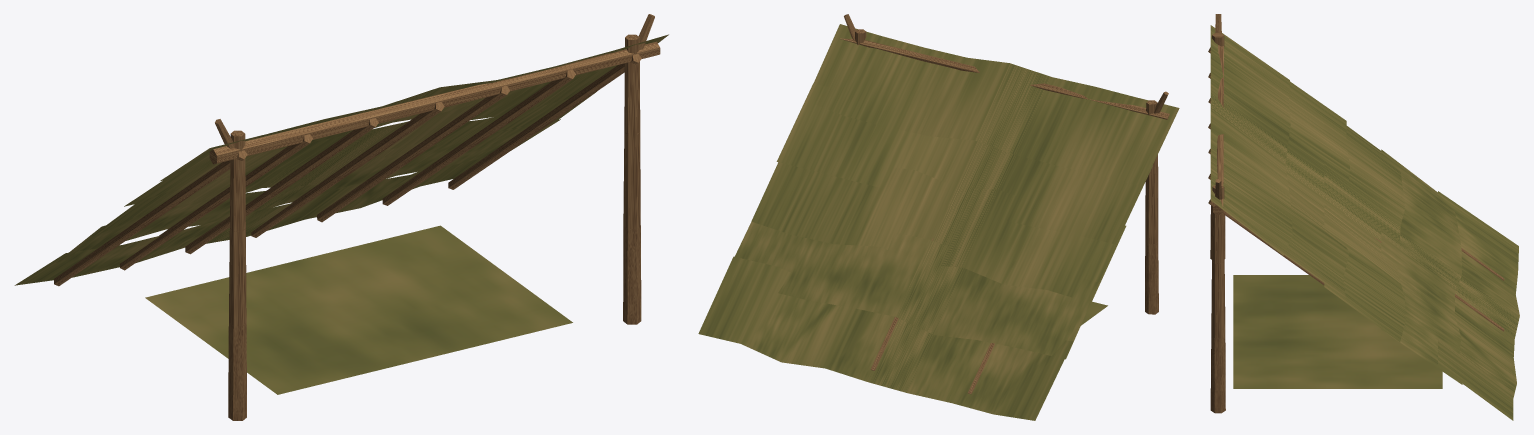
The model's file is PROP_Shelter.fbx.
3 renders of one model, left to right at view 1: azimuth 30°, elevation 25°; view 2: azimuth 150°, elevation 25°; view 3: azimuth 270°, elevation 25°, orthographic. The views are drawn at different scales.
Parts seen in each view (by area): view 1: PROP_Shelter; view 2: PROP_Shelter; view 3: PROP_Shelter.
Boxes of the visible parts, <box> form: PROP_Shelter: <box>14,14,668,420</box>; PROP_Shelter: <box>698,14,1179,420</box>; PROP_Shelter: <box>1208,14,1519,420</box>.
Bounding box in the file's own units: 2.8 × 1.79 × 2.09.
